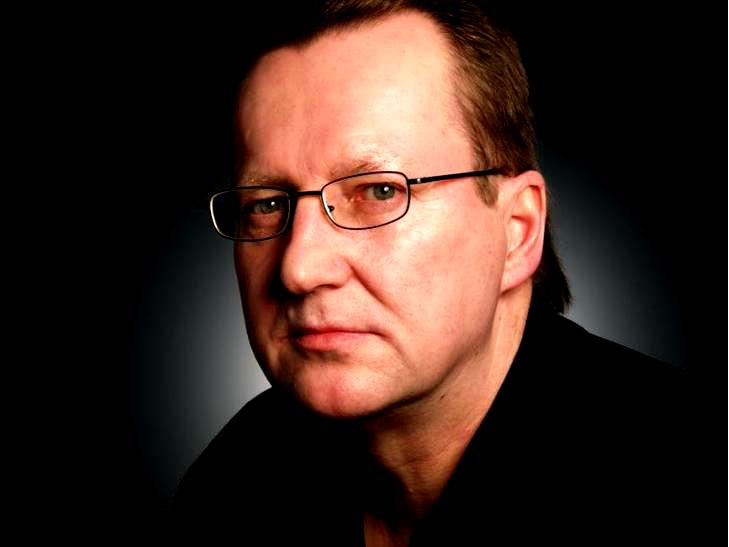face: (229, 11, 475, 420)
